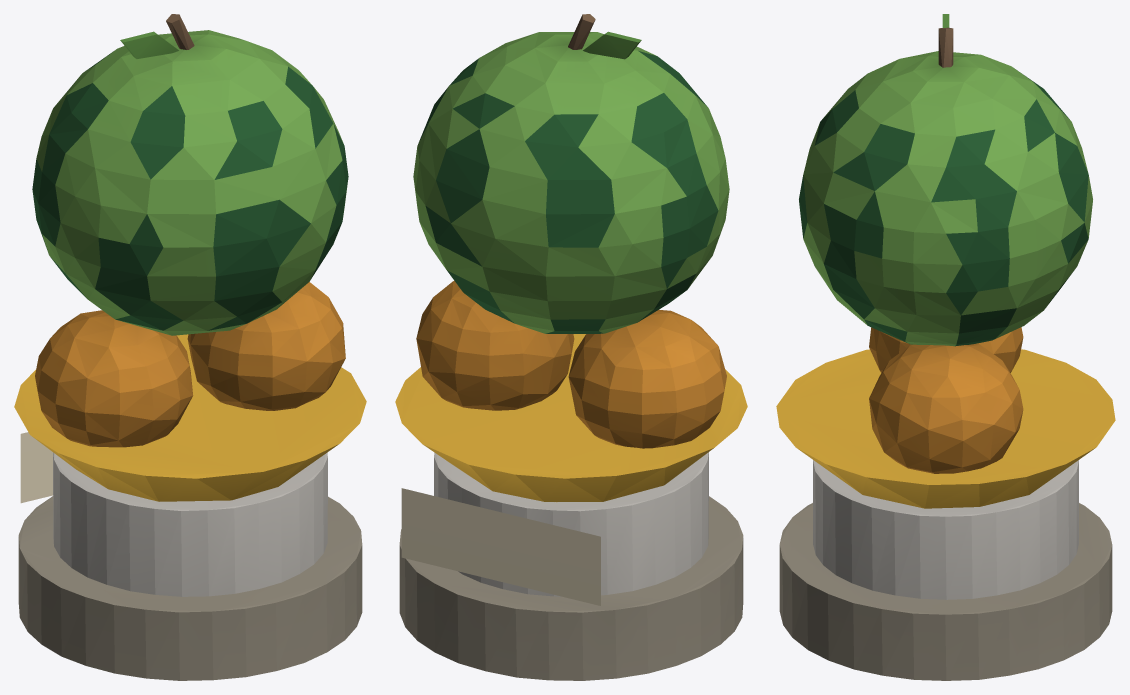
File: trophy_melon_low.glb
3 views of the same model, side by side, from view 1: azimuth 30°, elevation 25°; view 2: azimuth 150°, elevation 25°; view 3: azimuth 270°, elevation 25° (orthographic). The views are drawn at different scales.
Parts seen in each view (by area): view 1: symbol, common_pedestal, trophy_plate; view 2: symbol, common_pedestal, trophy_plate; view 3: symbol, common_pedestal.
Part boxes in pixels (bbox=[...]): symbol: bbox=[14, 14, 366, 501]; common_pedestal: bbox=[18, 452, 362, 680]; trophy_plate: bbox=[20, 432, 52, 503]; symbol: bbox=[395, 14, 747, 501]; common_pedestal: bbox=[399, 452, 743, 680]; trophy_plate: bbox=[401, 488, 600, 605]; symbol: bbox=[776, 14, 1115, 508]; common_pedestal: bbox=[779, 460, 1112, 680].
Bounding box in the file's own units: 0.9156 × 1.72 × 0.9156.
